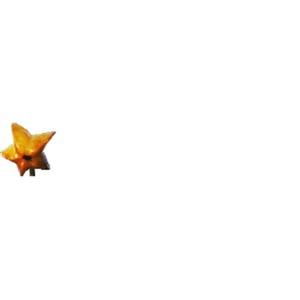carambola: (1, 123, 57, 177)
